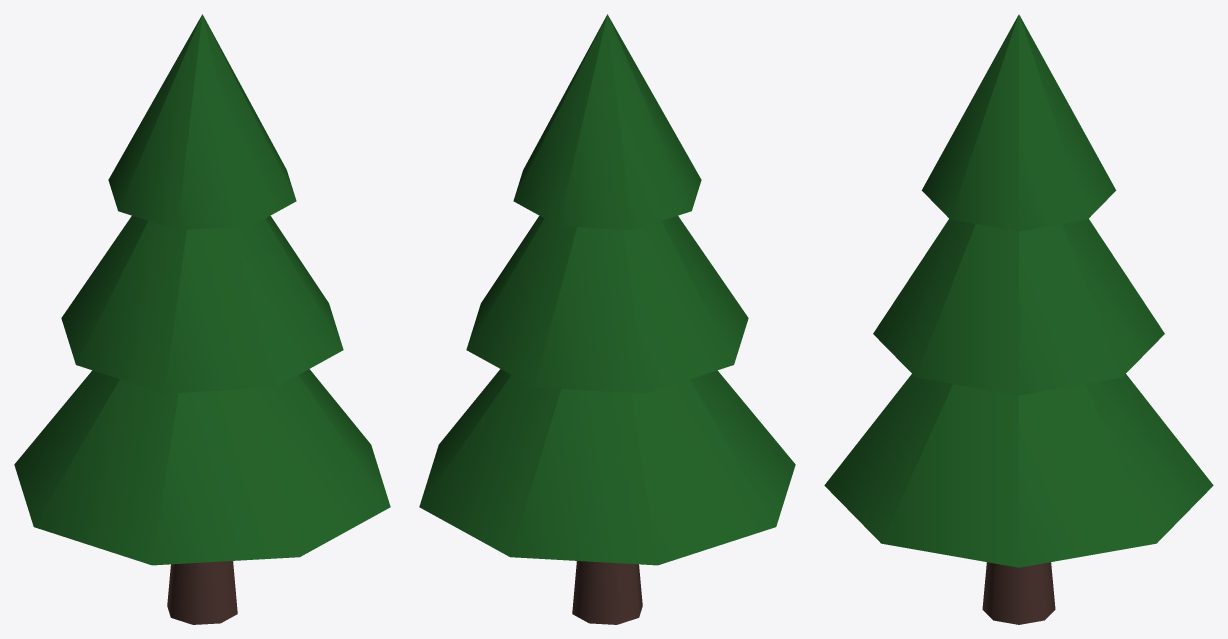
File: tree_pine.glb
The picture shows the model from 3 angles, left to right: view 1: azimuth 30°, elevation 25°; view 2: azimuth 150°, elevation 25°; view 3: azimuth 270°, elevation 25°; orthographic projection.
Bounding box in the file's own units: 6.4 × 10.8 × 6.4.
